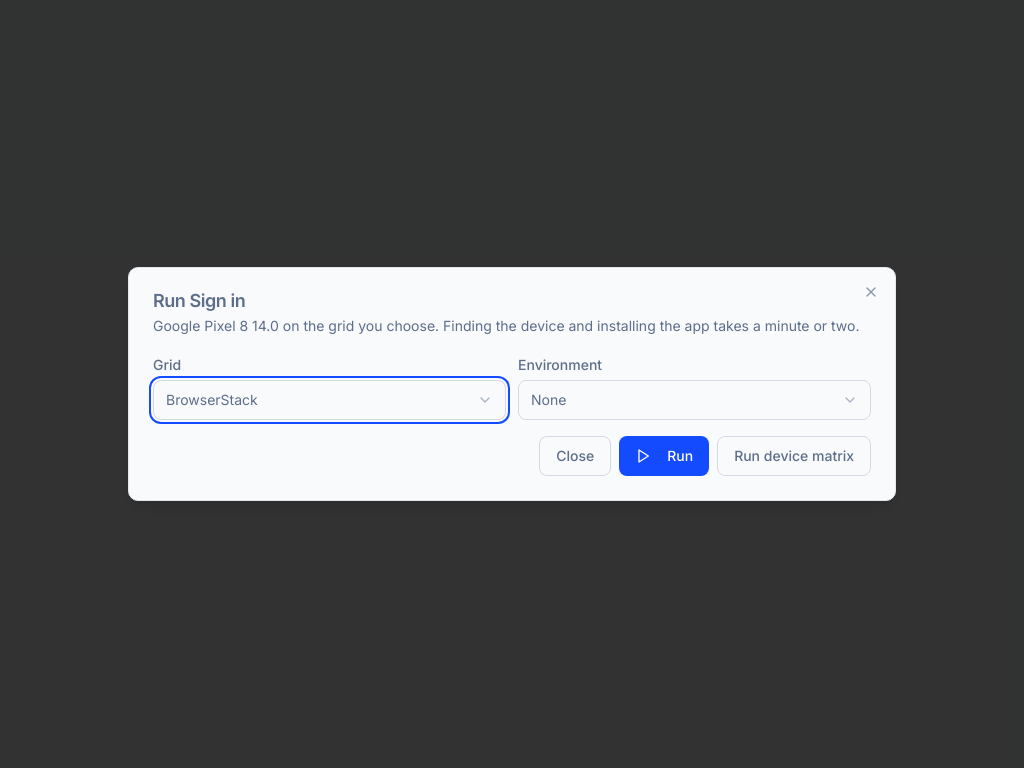
Test: MobileRunDialog › starts and follows each target of a device matrix
This screenshot has width=1024, height=768.
Click the button "Run device matrix".
click(794, 456)  # box [717, 436, 871, 476]
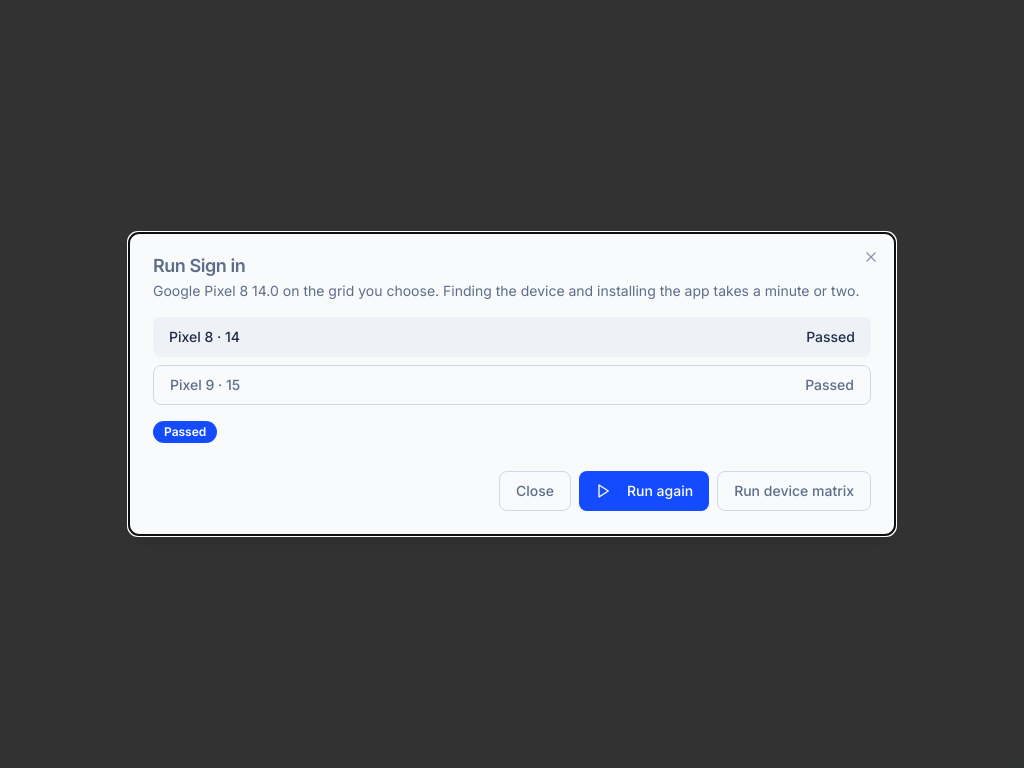
Check: the text "Pixel 9 · 15" is shown, box [170, 375, 240, 395]
